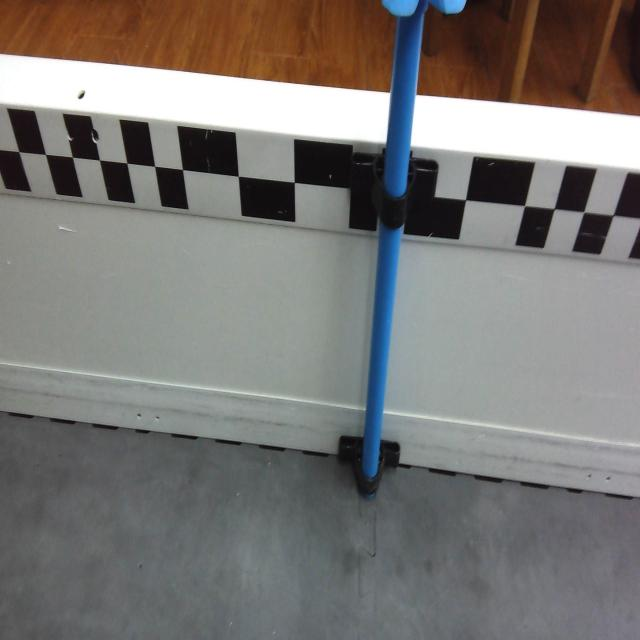zblue-Stake-Head: (378, 0, 469, 18)
